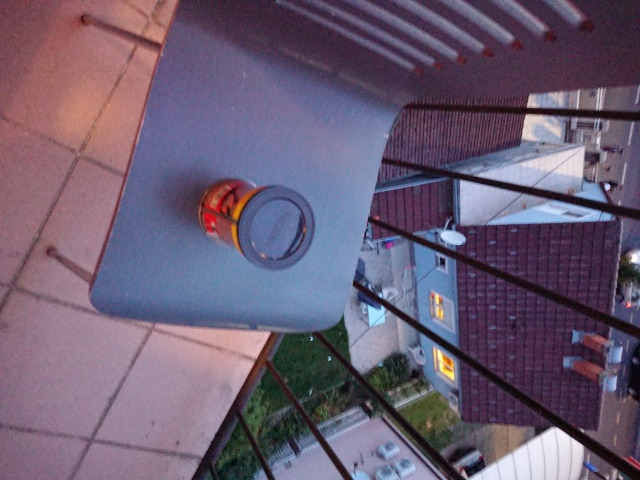Nescafe Classic 225g: (195, 175, 318, 274)
